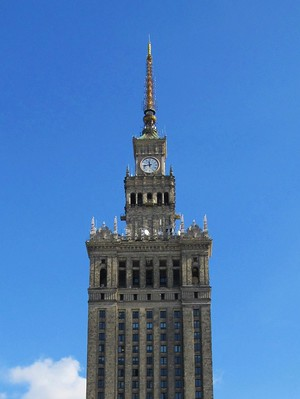low: (82, 128, 217, 397)
